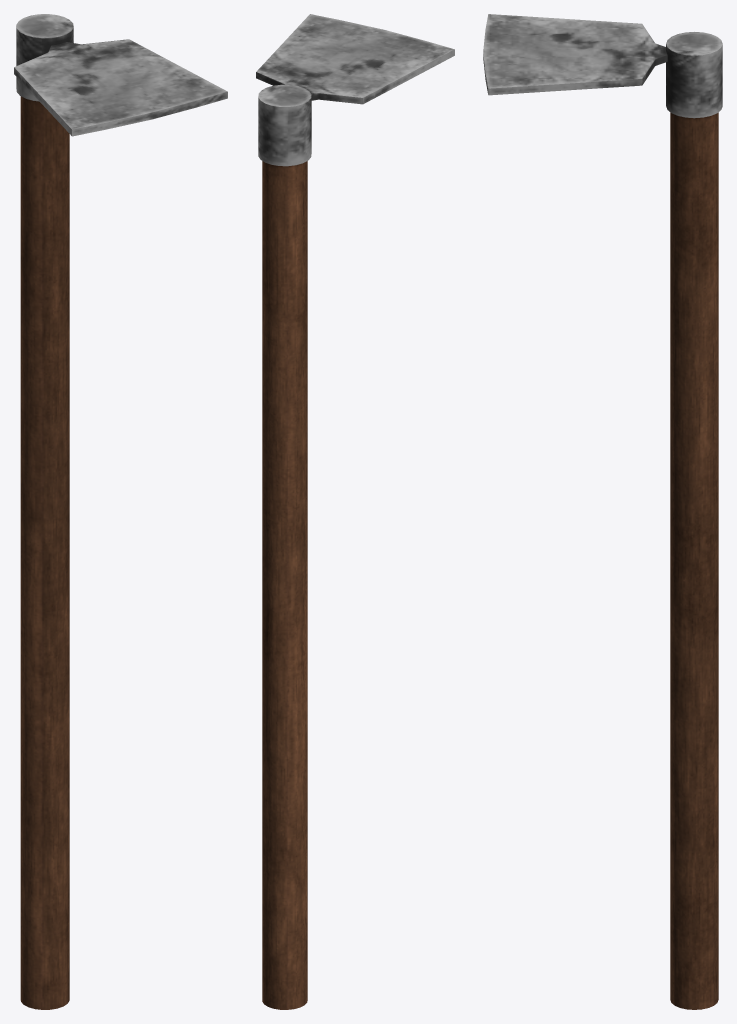
Rendered from Farming_Hoe_Textured.fbx.
3 renders of one model, left to right at view 1: azimuth 30°, elevation 25°; view 2: azimuth 150°, elevation 25°; view 3: azimuth 270°, elevation 25°, orthographic. The views are drawn at different scales.
Parts seen in each view (by area): view 1: pCylinder1, polySurface1; view 2: pCylinder1, polySurface1; view 3: pCylinder1, polySurface1.
Part boxes in pixels (<box>): pCylinder1: <box>20,96,69,1009</box>; polySurface1: <box>14,14,227,136</box>; pCylinder1: <box>262,161,307,1009</box>; polySurface1: <box>256,14,454,166</box>; pCylinder1: <box>670,112,718,1009</box>; polySurface1: <box>483,14,722,118</box>.
Bounding box in the file's own units: 0.0139 × 0.0832 × 0.0189.
Materials: 2 (2 with a texture image).
